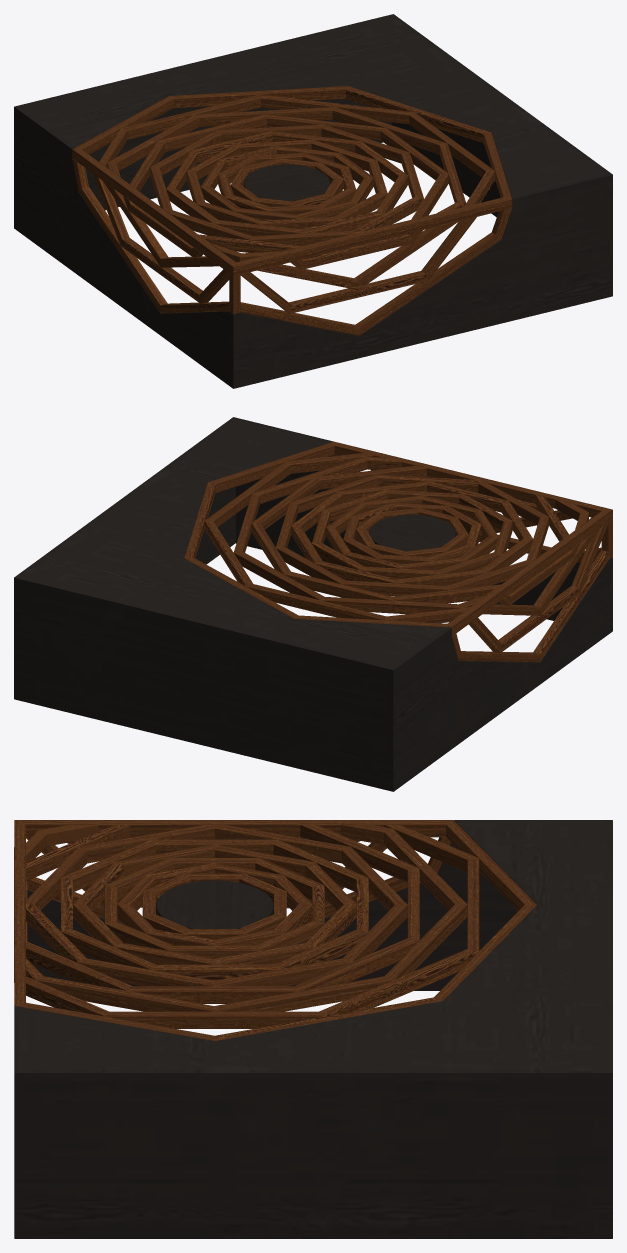
Rendered from modern_coffee_table_02.glb.
3 views of the same model, one above another, from view 1: azimuth 30°, elevation 25°; view 2: azimuth 150°, elevation 25°; view 3: azimuth 270°, elevation 25° (orthographic). The views are drawn at different scales.
Visible parts, largest first — view 1: modern_coffee_table_02; view 2: modern_coffee_table_02; view 3: modern_coffee_table_02.
Boxes of the visible parts, left/top/right/bottom form: modern_coffee_table_02: left=14, top=14, right=612, bottom=388; modern_coffee_table_02: left=14, top=417, right=612, bottom=791; modern_coffee_table_02: left=14, top=820, right=612, bottom=1238.
Bounding box in the file's own units: 1.2 × 0.3692 × 1.2.
2 materials, 2 textured.
